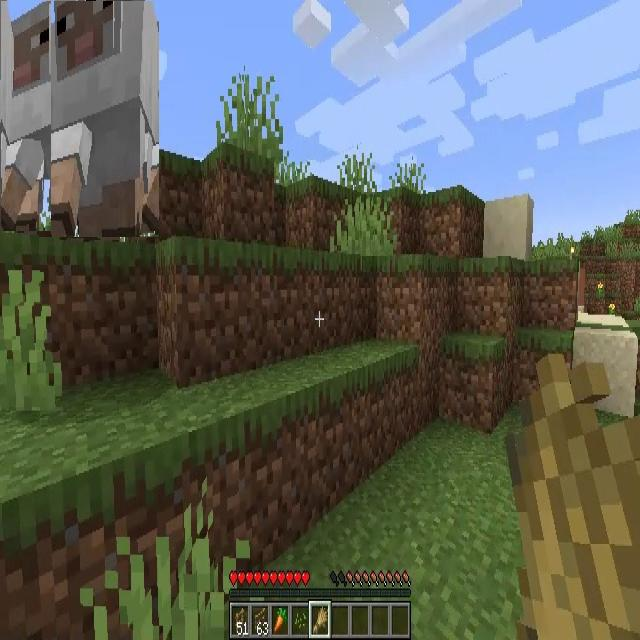sheep: (39, 1, 160, 237), (1, 1, 52, 231)
